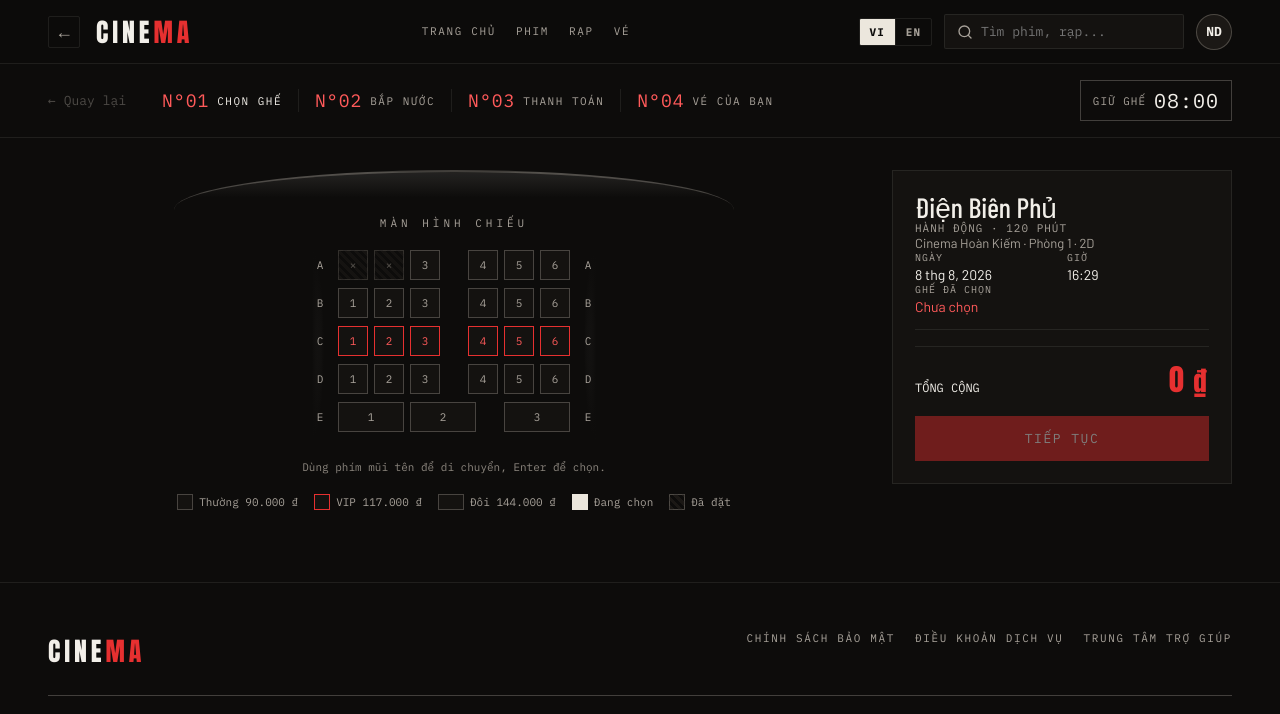
Test: BookingWizard — ghế bị người khác chiếm › giữ ghế trả 409 thì rớt đúng ghế đụng độ và quay về bước chọn ghế
The width and height of the screenshot is (1280, 714).
Expected: the heading "Điện Biên Phủ" is shown, [915,190,1057,224]
Click the cell named "Ghế B1," at (353, 303), box [338,288,368,318]
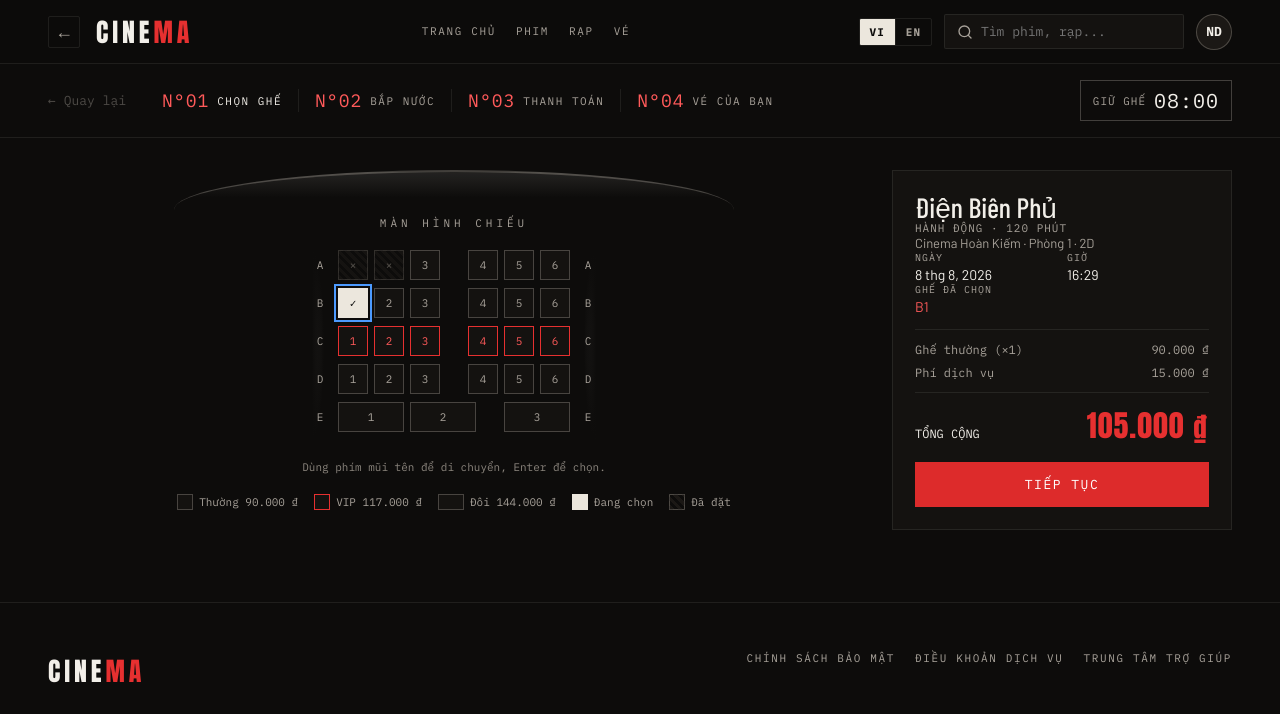
Click the 1st cell "2" at (389, 303), box [374,288,404,318]
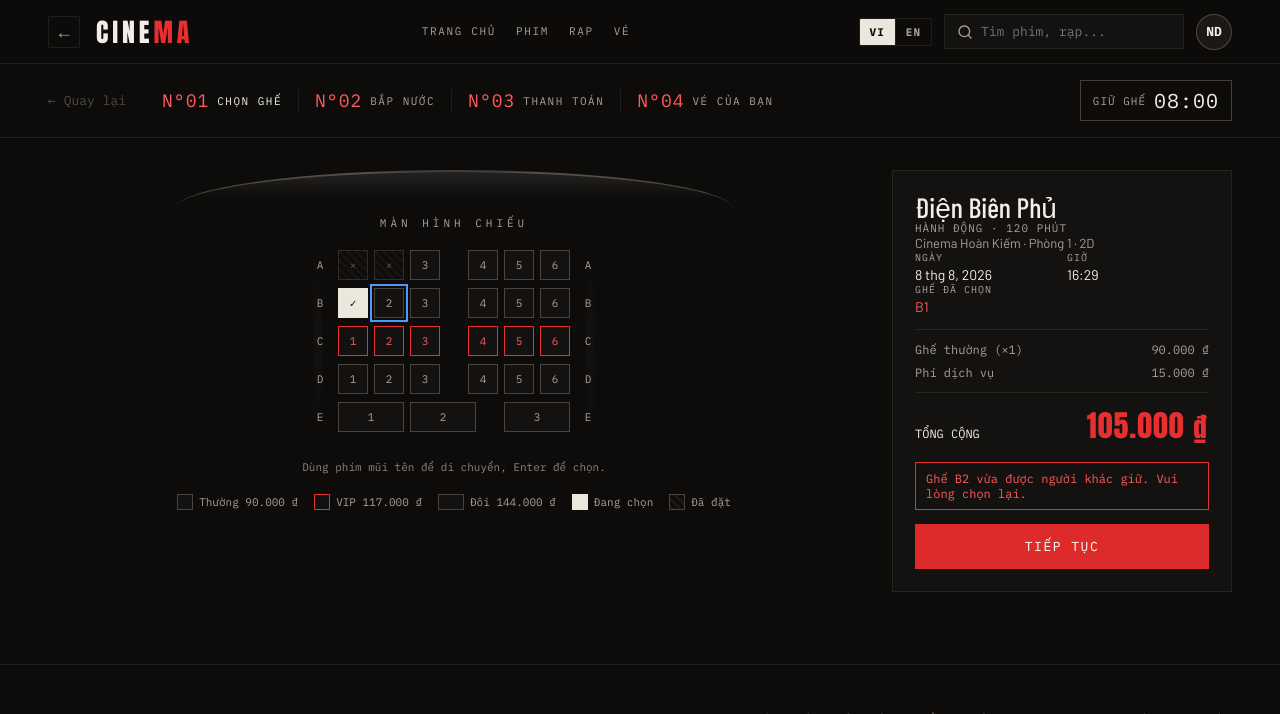
Expected: the table is shown, [312,250,596,432]
Result: the text "Ghế B2 vừa được người khác giữ. Vui lòng chọn lại." is shown at [915,462,1209,510]
